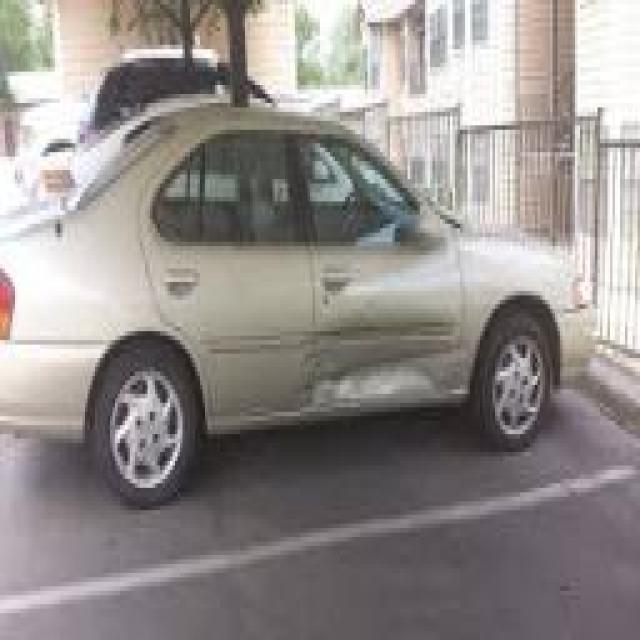rapairable: (306, 337, 456, 398)
